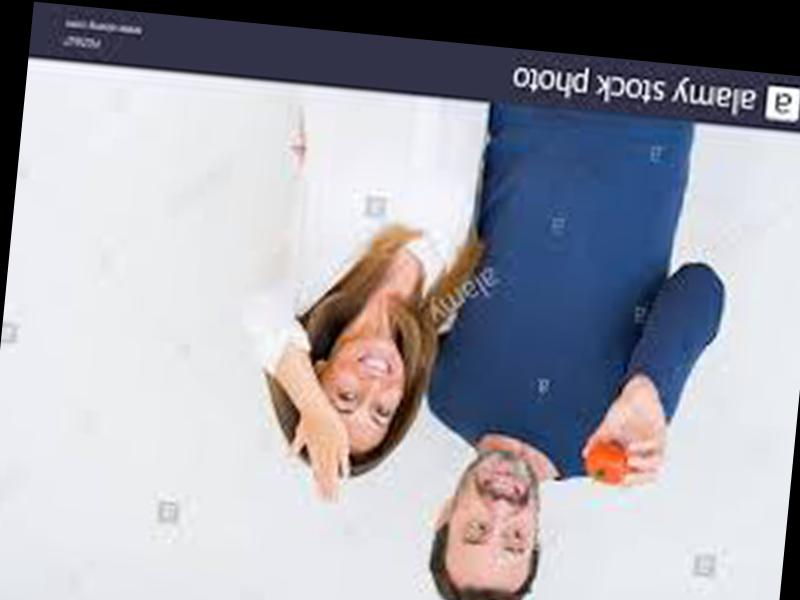Tomato: (584, 442, 628, 489)
